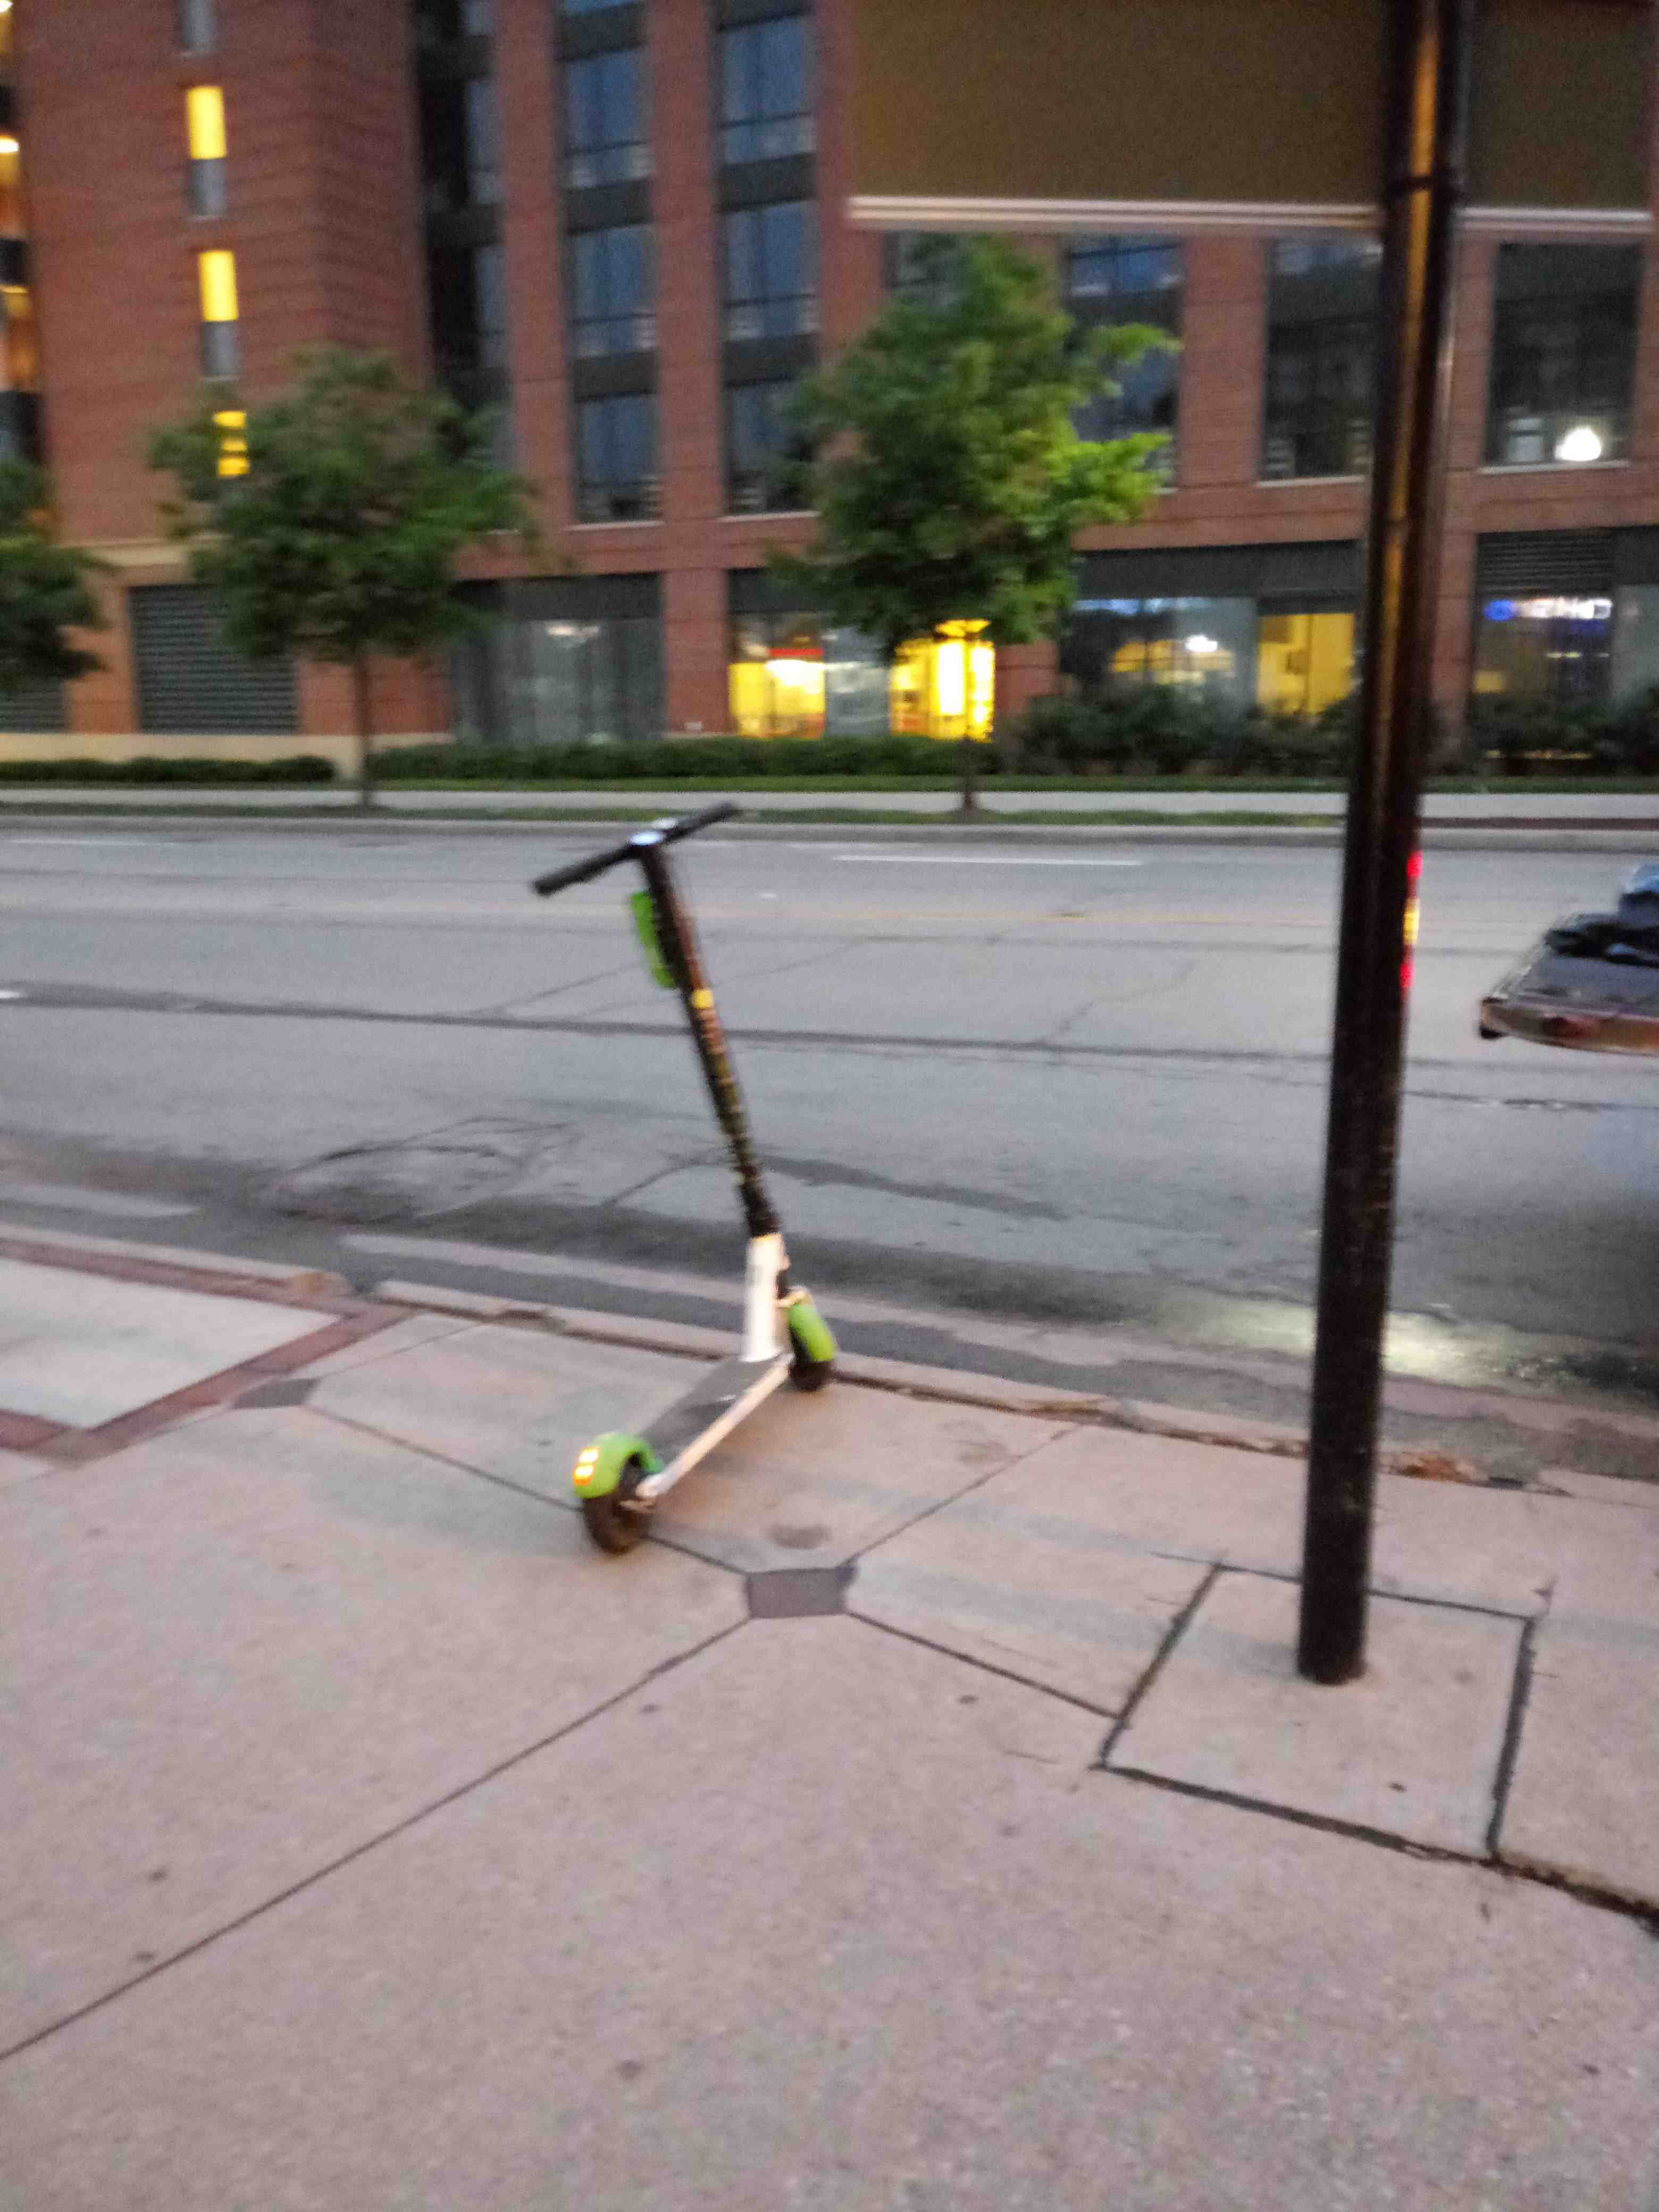too close: (709, 1261, 899, 1418)
